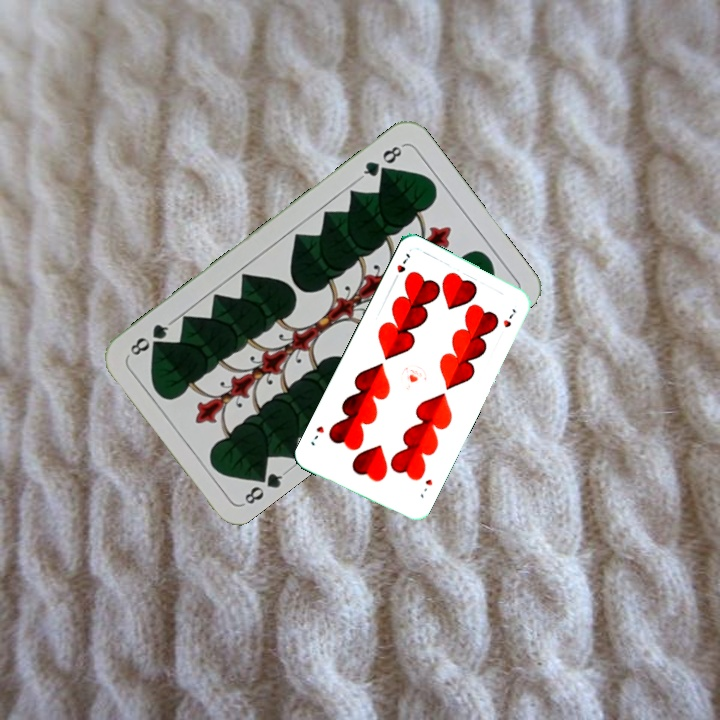G8: (239, 463, 290, 508), (356, 141, 406, 182)
H7: (389, 249, 413, 285), (416, 475, 435, 501)
